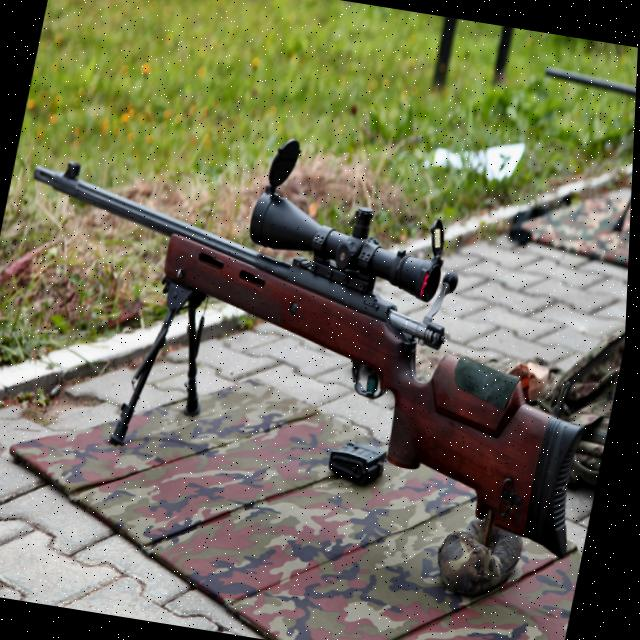firearm: (0, 99, 637, 559), (534, 35, 639, 146)
